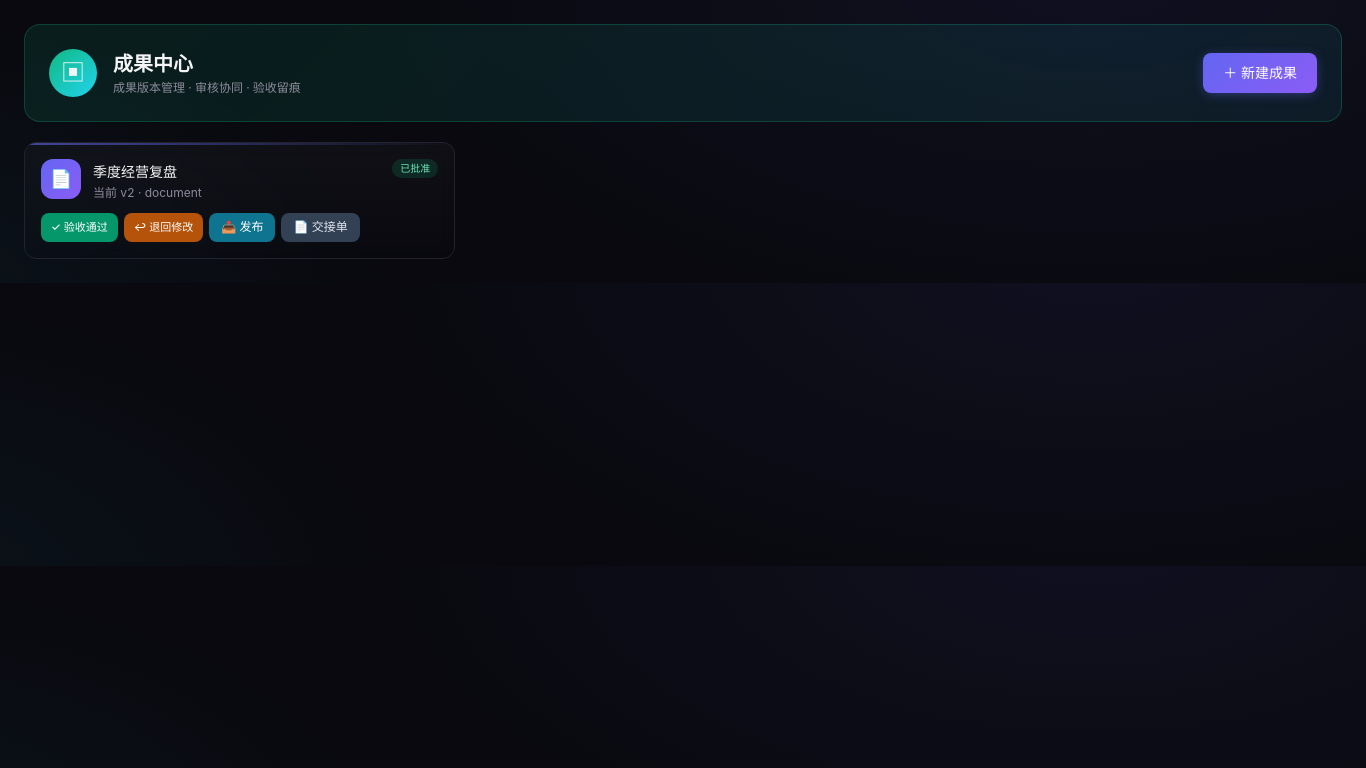
Test: 成果验收链路 › 退回失败：错误如实显示，不谎报成功
Expected: the button "季度经营复盘" is shown, [93, 162, 380, 182]
Click the button "↩ 退回修改" at (164, 227), box [124, 213, 203, 242]
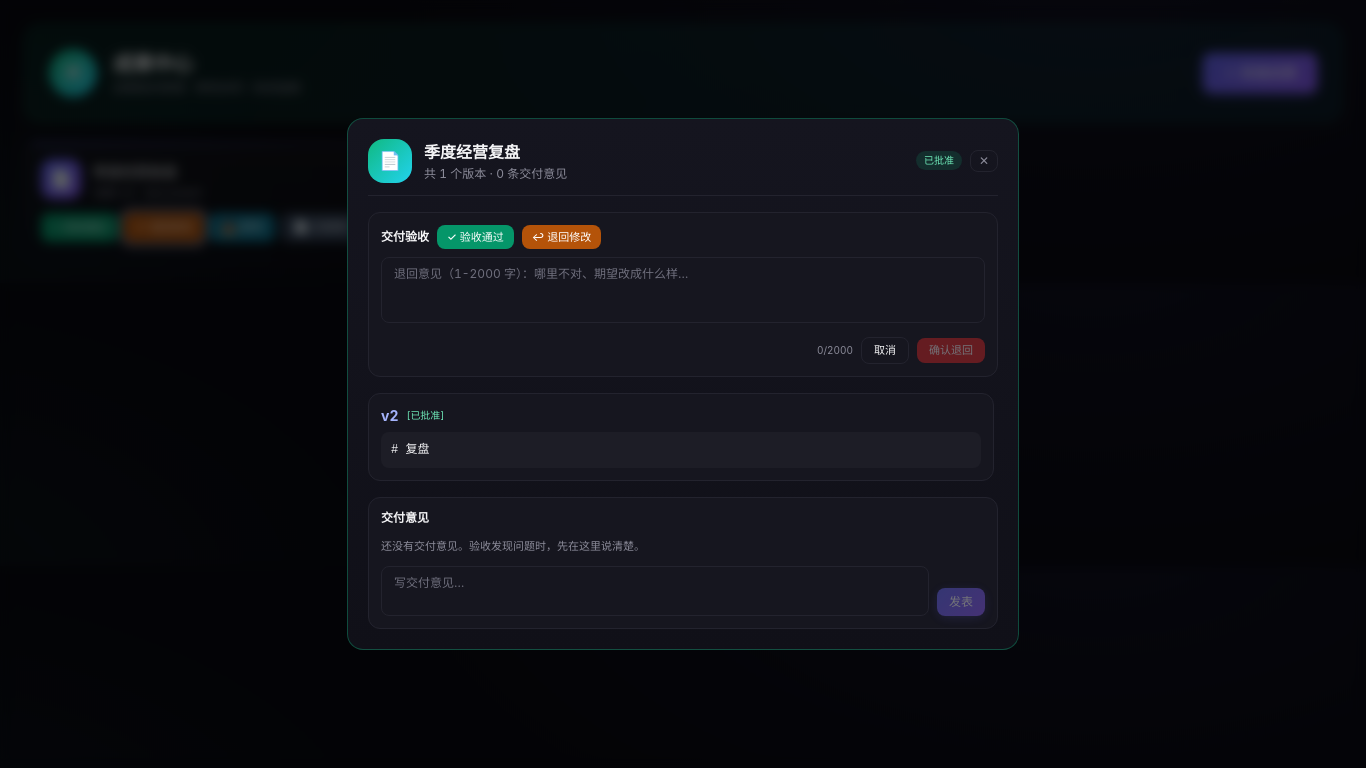
Type "封面图分辨率太低" into the text box with placeholder "退回意见（1-2000 字）：哪里不对、期望改成什么样…" at (683, 290), box [381, 257, 985, 323]
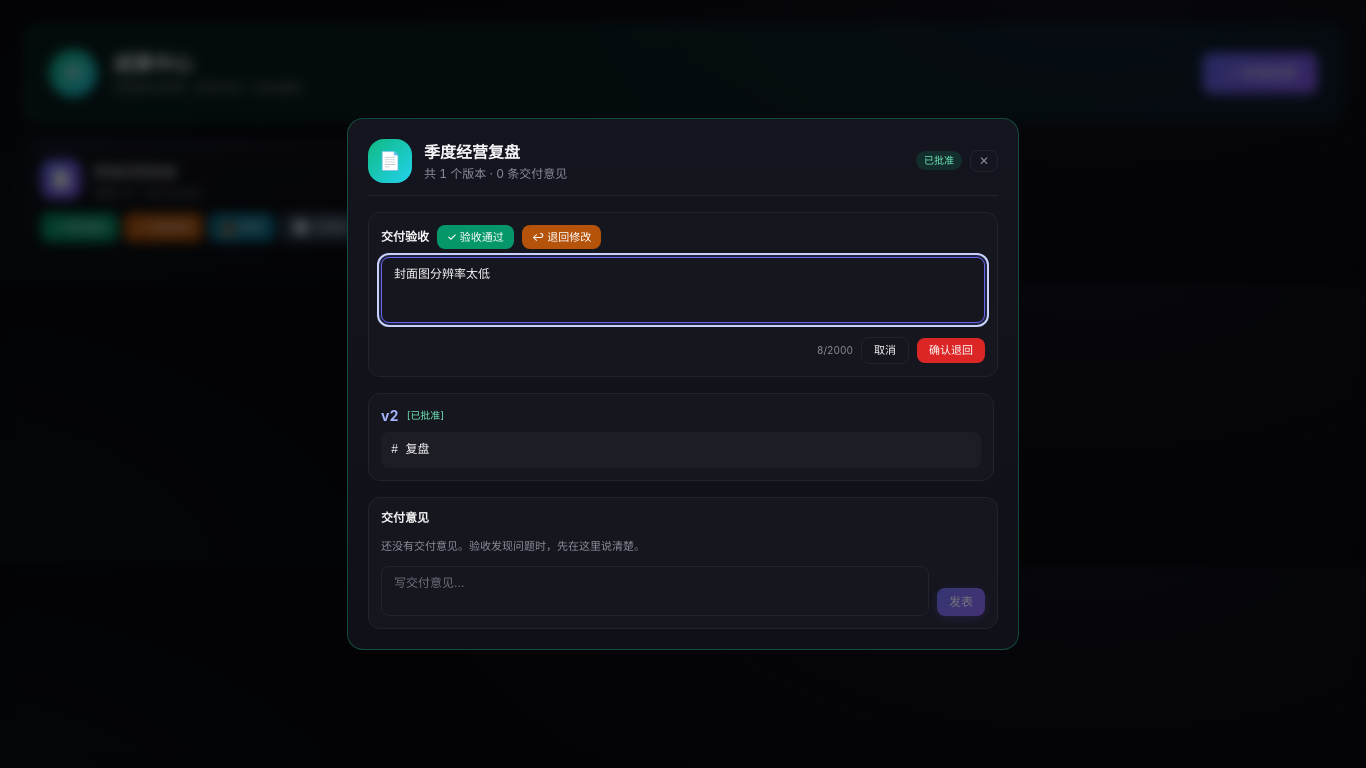
Click the button "确认退回" at (951, 351), box [917, 338, 985, 363]
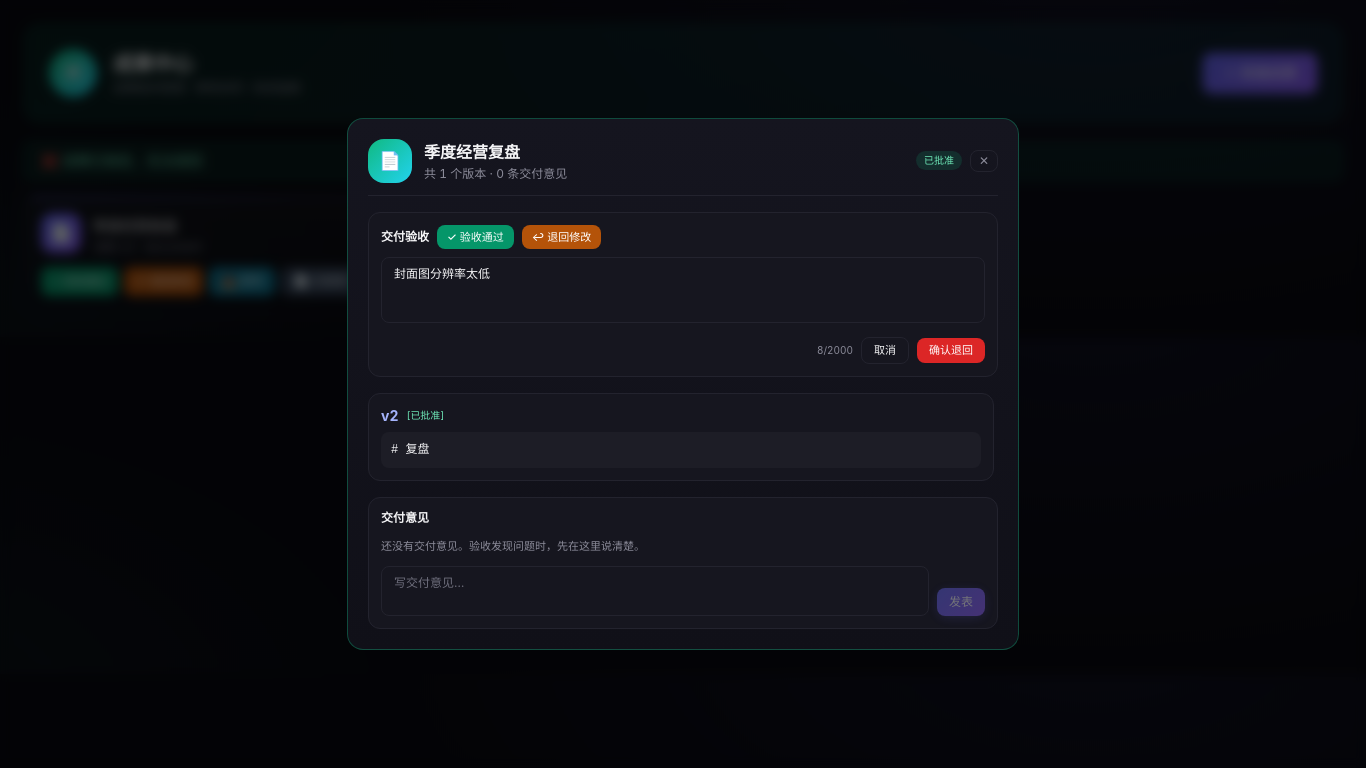
Now the text "❌ 成果已锁定，无法退回" is shown, box [24, 142, 1342, 180]
